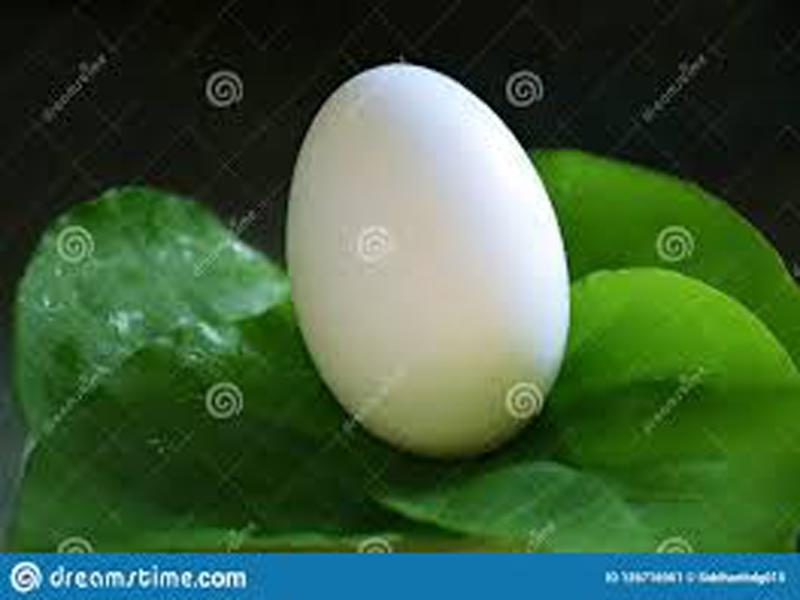Eggs: (285, 63, 570, 455)
